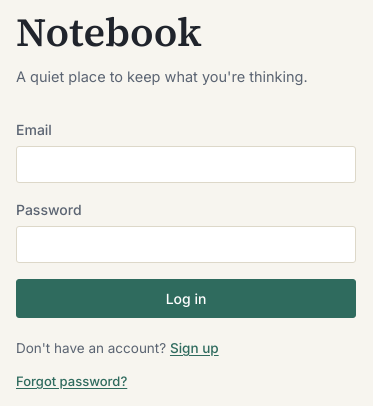
Test: AuthScreen › switches to the sign-up form and submits to register()
Later steps or results of the test are not shown.
What coordinates should you click on to do the following:
click the button "Sign up"
I would click on:
 (194, 348)
Its box is [170,340,219,356].
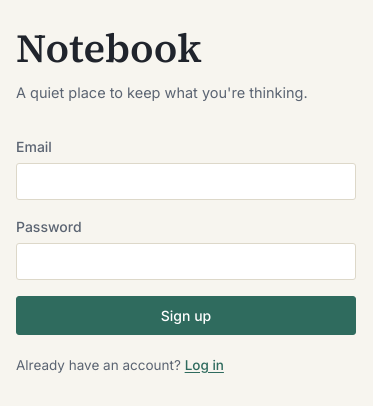
Expected: the button "Sign up" is shown, [16,296,356,334]
